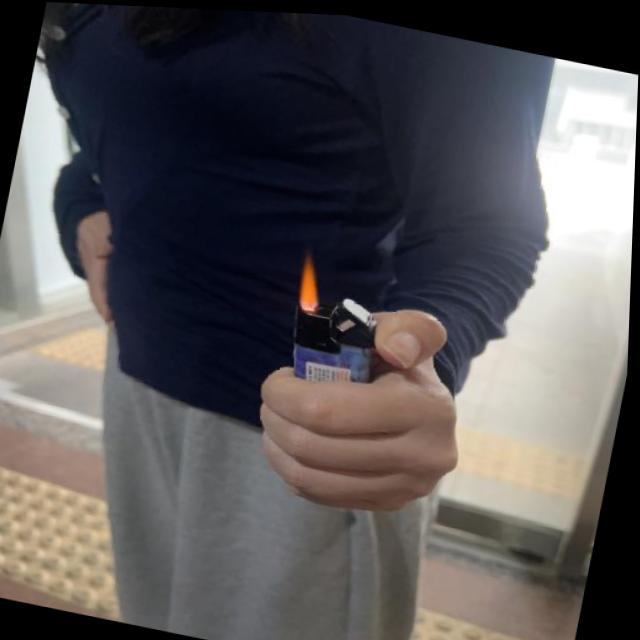Fire: (297, 255, 330, 307)
